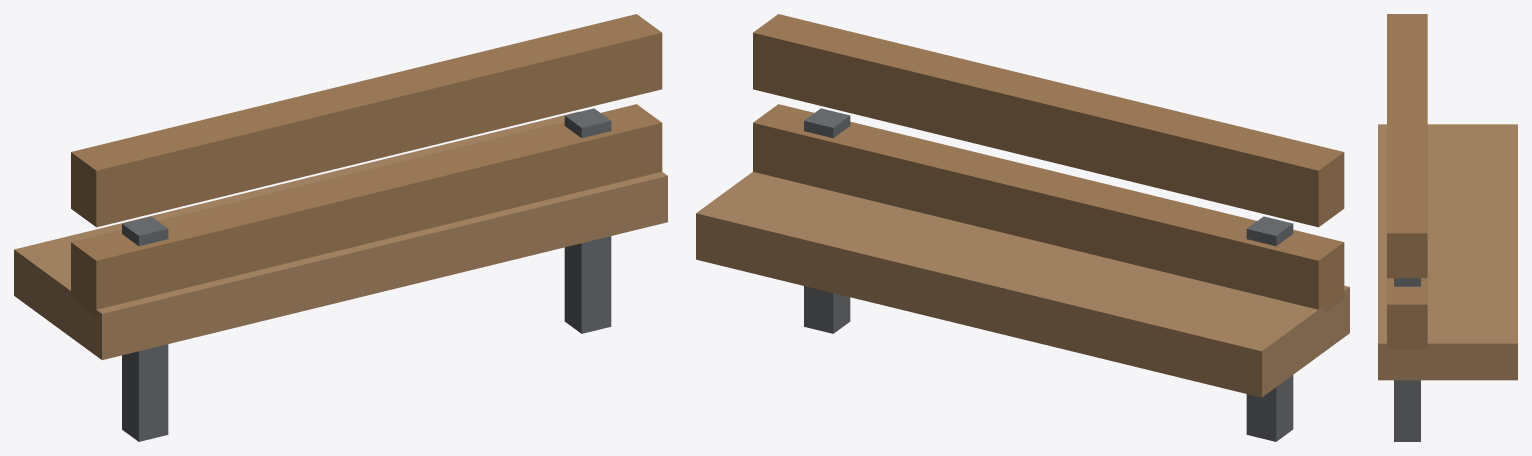
File: bench.glb
3 views of the same model, side by side, from view 1: azimuth 30°, elevation 25°; view 2: azimuth 150°, elevation 25°; view 3: azimuth 270°, elevation 25° (orthographic). The views are drawn at different scales.
Visible parts, largest first — view 1: slat_1.0, slat_0.65, seat, leg_0.9, leg_-0.9; view 2: seat, slat_1.0, slat_0.65, leg_-0.9, leg_0.9; view 3: seat, slat_1.0, slat_0.65, leg_0.9.
Boxes of the visible parts, x1=… form: slat_1.0: x1=71, y1=14, x2=662, y2=227; slat_0.65: x1=71, y1=104, x2=662, y2=316; seat: x1=14, y1=111, x2=667, y2=360; leg_0.9: x1=564, y1=108, x2=611, y2=333; leg_-0.9: x1=122, y1=216, x2=168, y2=441; seat: x1=696, y1=172, x2=1349, y2=397; slat_1.0: x1=753, y1=14, x2=1344, y2=227; slat_0.65: x1=753, y1=104, x2=1344, y2=313; leg_-0.9: x1=1246, y1=216, x2=1293, y2=441; leg_0.9: x1=804, y1=108, x2=850, y2=333; seat: x1=1378, y1=124, x2=1517, y2=380; slat_1.0: x1=1387, y1=14, x2=1427, y2=278; slat_0.65: x1=1387, y1=278, x2=1427, y2=349; leg_0.9: x1=1394, y1=278, x2=1420, y2=441.
Bounding box in the file's own units: 2.3 × 1.11 × 0.62.
